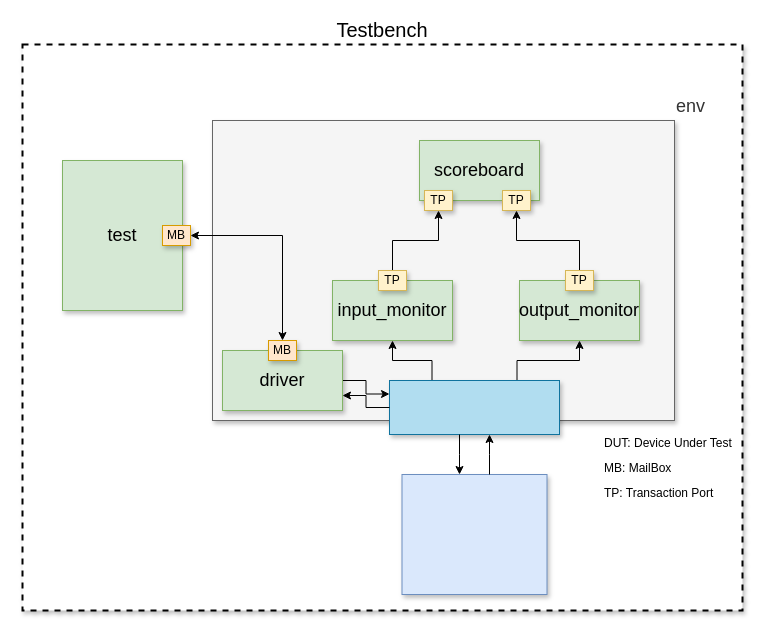
Image size: 766x635. Some labels were removed from this diagram. The shapes that lost their labels are listed below. From the top down, each one's centre as x and y in pixels, then its label:
At point (475, 409): "DUT_interface".
At point (475, 536): "DUT".
